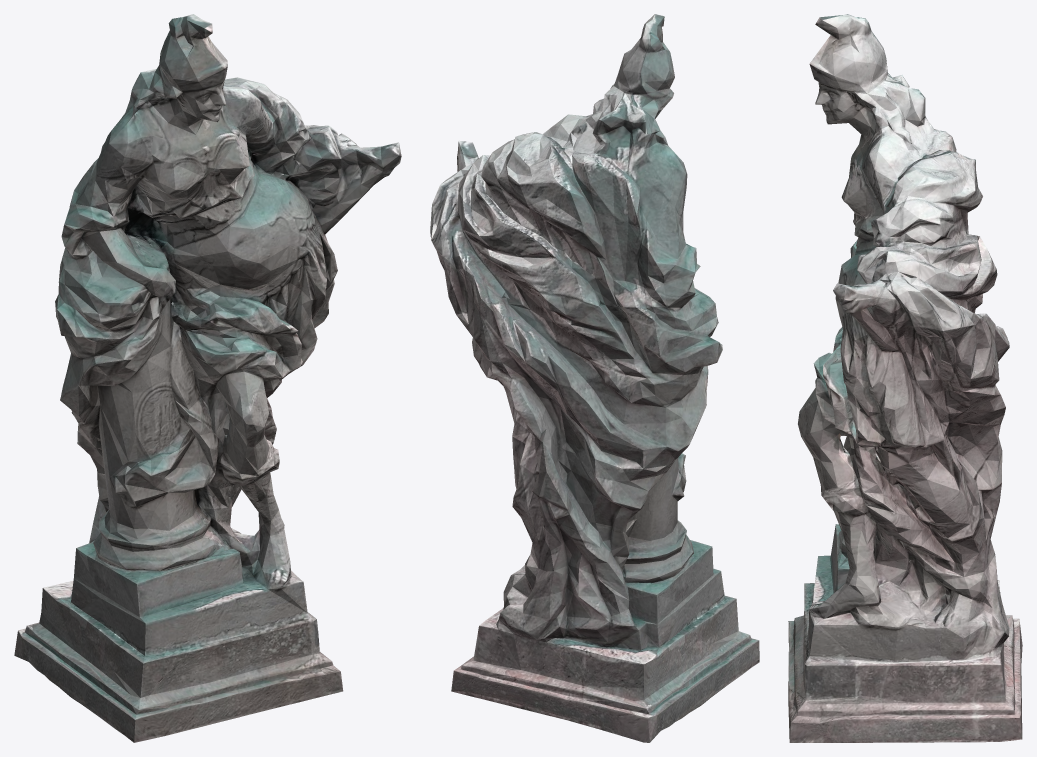
Rendered from statecnost2.glb.
3 renders of one model, left to right at view 1: azimuth 30°, elevation 25°; view 2: azimuth 150°, elevation 25°; view 3: azimuth 270°, elevation 25°, orthographic. The views are drawn at different scales.
Parts seen in each view (by area): view 1: Statecnost; view 2: Statecnost; view 3: Statecnost.
Part boxes in pixels (x1=…): Statecnost: x1=14, y1=14, x2=401, y2=742; Statecnost: x1=430, y1=14, x2=759, y2=742; Statecnost: x1=788, y1=14, x2=1022, y2=742.
Size of the model in its own units: 1.3 by 2.75 by 0.872.
1 material, 1 textured.
